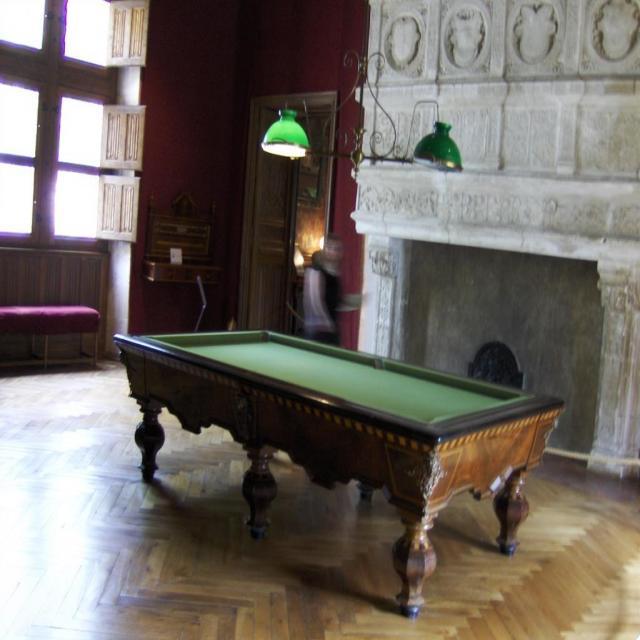Table: (114, 326, 566, 616)
